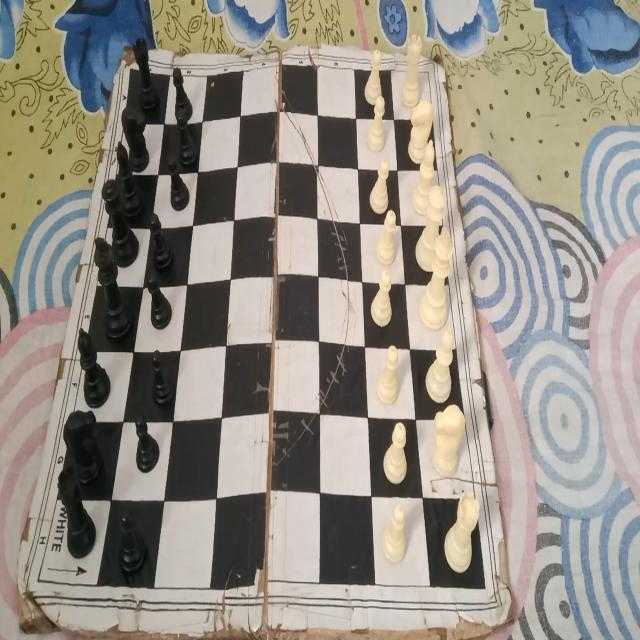corners: (14, 600, 32, 629), (499, 594, 514, 622), (434, 55, 448, 80), (117, 39, 130, 62)
